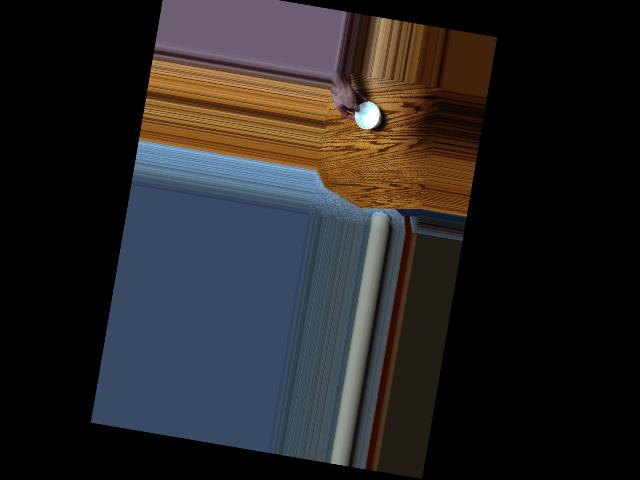cotage: (350, 99, 383, 136)
